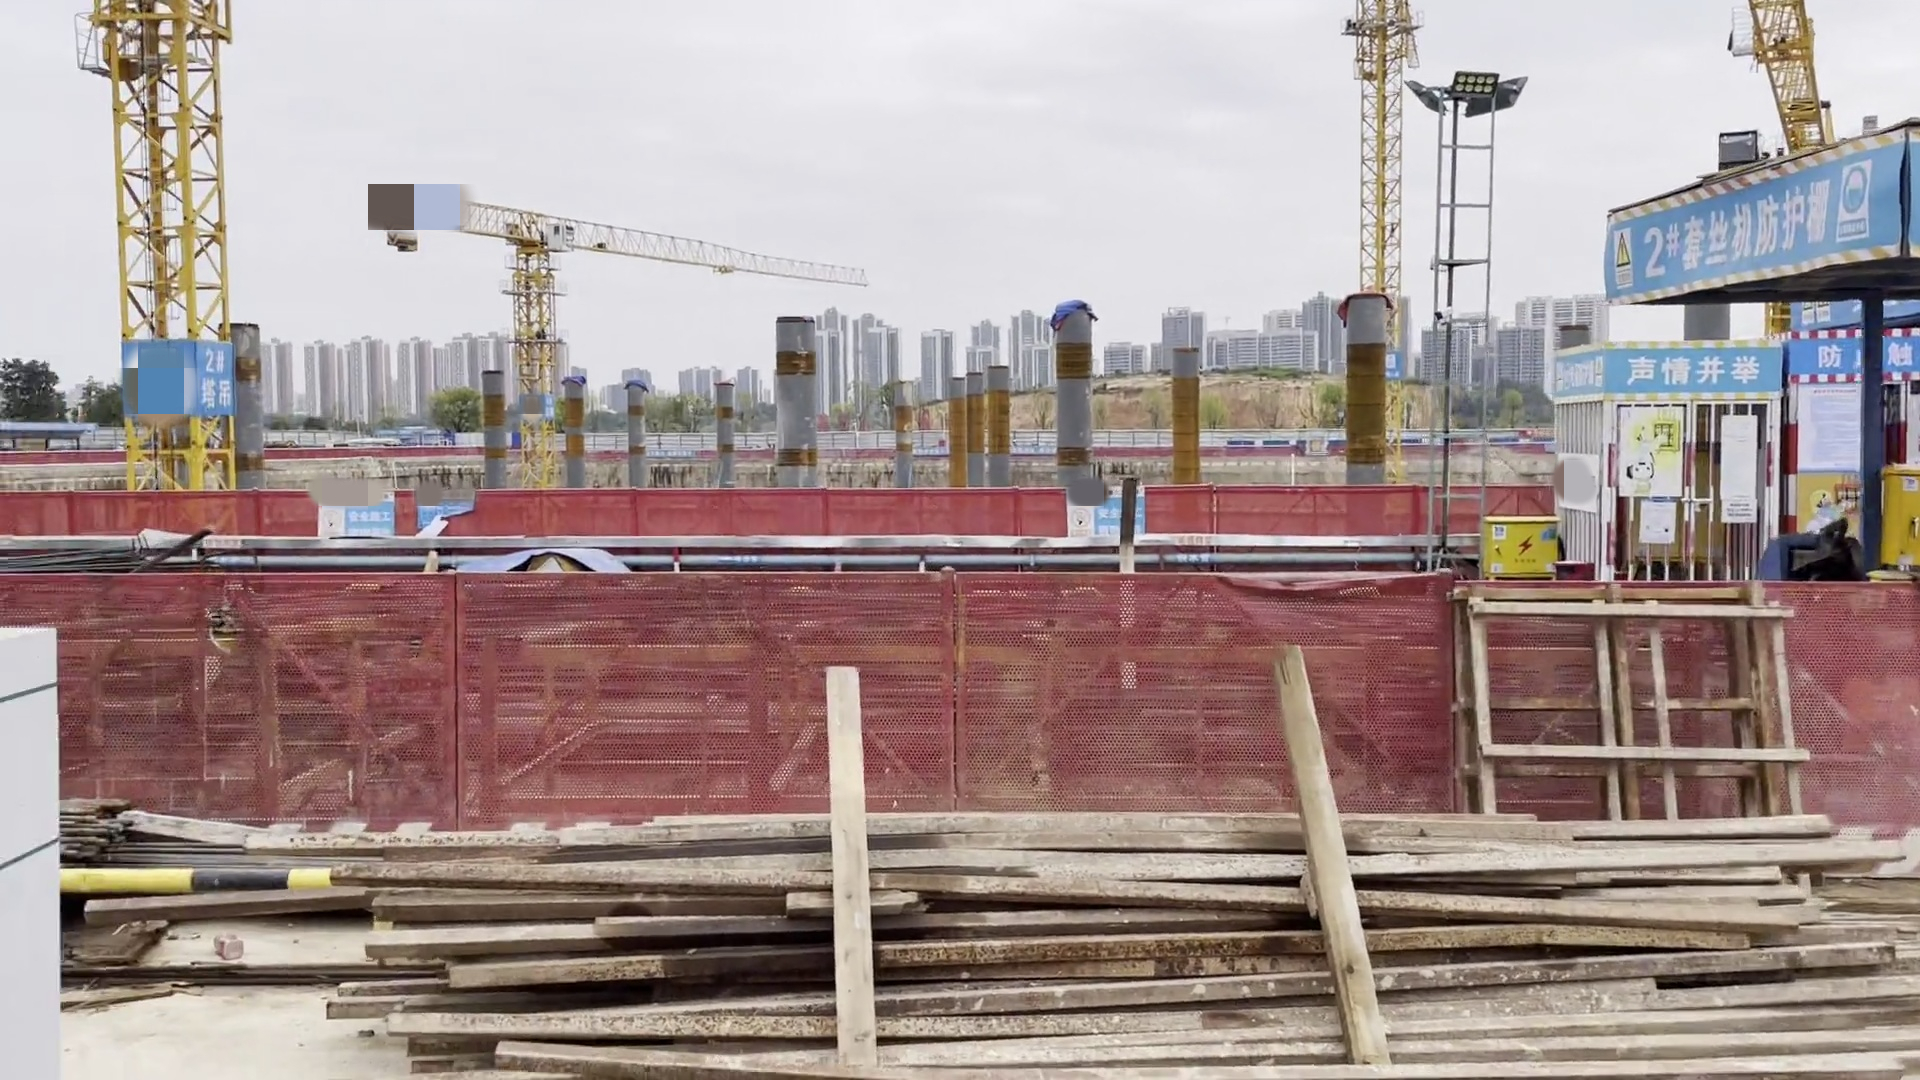ebox: (1476, 518, 1563, 599)
fence: (8, 556, 1920, 824), (3, 491, 1567, 549)
slogan: (1611, 170, 1916, 291), (1547, 349, 1778, 400)
wood: (293, 816, 1859, 1080)
